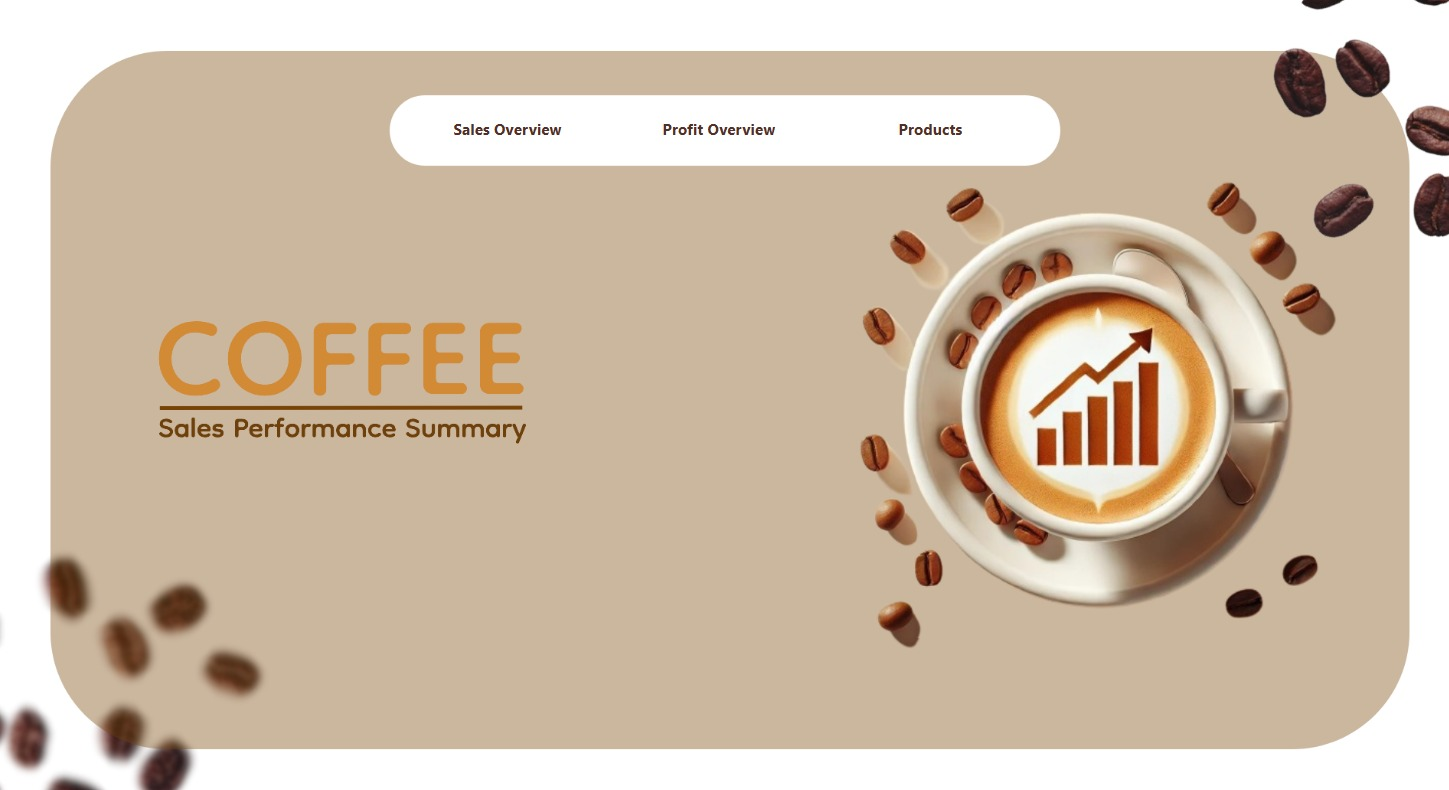

What the dashboard file says about the page in this screenshot:
{"tool":"powerbi","page":{"name":"Home","canvas":[1280,720],"ordinal":0},"visuals":[{"type":"pageNavigator","box":[363.8,100.8,544.3,45.4],"z":0}]}

Visuals, with their boxes on the page's 1280x720 design canvas (x1, y1, x2, y2). These are canvas units, not pixel positions in the 1449x790 screenshot, which may show the page scaled, cropped or inside an application window:
pageNavigator: x1=364 y1=101 x2=908 y2=146
